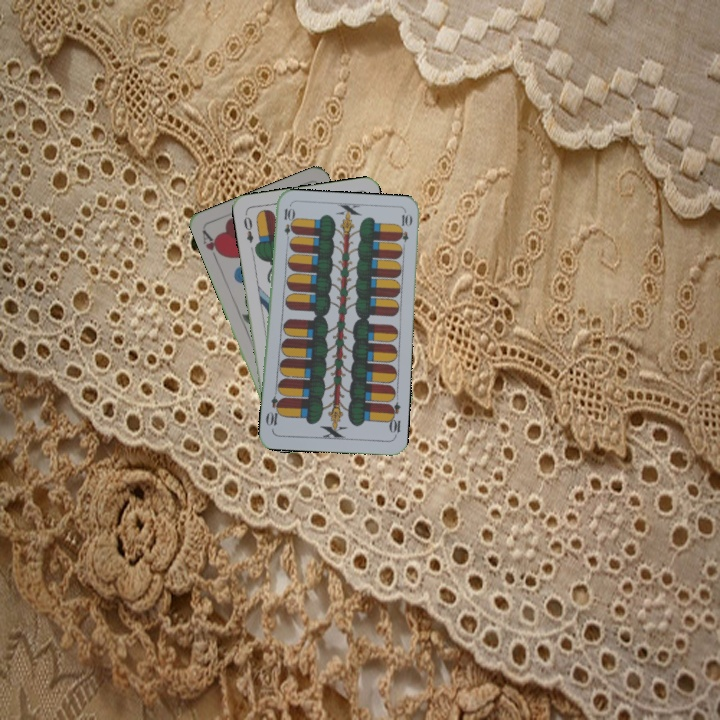E10: (384, 399, 403, 439), (280, 204, 294, 245)
EO: (239, 209, 256, 245)
HA: (198, 226, 225, 265)
